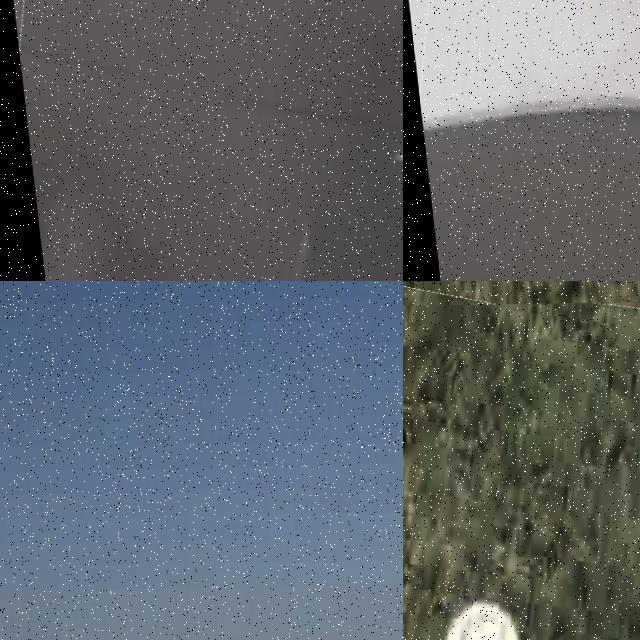0: (403, 296, 640, 640)
drone: (0, 0, 403, 281), (403, 0, 640, 281)
